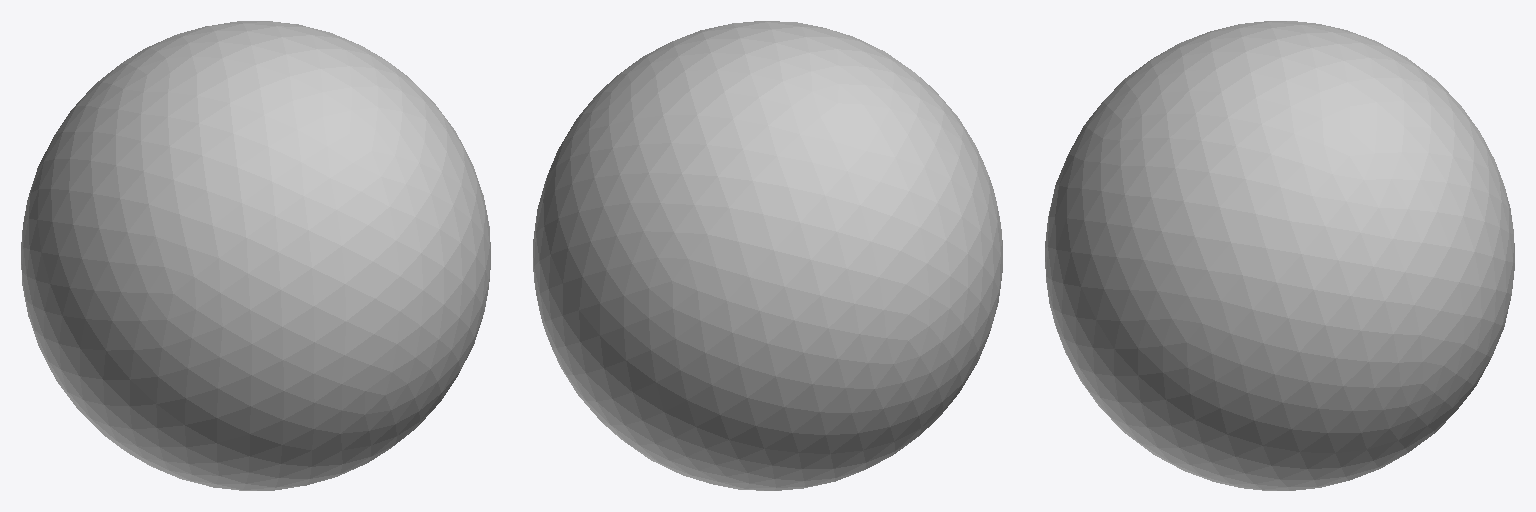
The model's file is my_mars_created.obj.
3 renders of one model, left to right at view 1: azimuth 30°, elevation 25°; view 2: azimuth 150°, elevation 25°; view 3: azimuth 270°, elevation 25°, orthographic.
Parts seen in each view (by area): view 1: Icosphere; view 2: Icosphere; view 3: Icosphere.
Part boxes in pixels (x1,y1,x2,y2): Icosphere: (21, 21, 490, 490); Icosphere: (533, 21, 1002, 490); Icosphere: (1045, 21, 1514, 490).
Size of the model in its own units: 2.85 by 2.86 by 2.86.